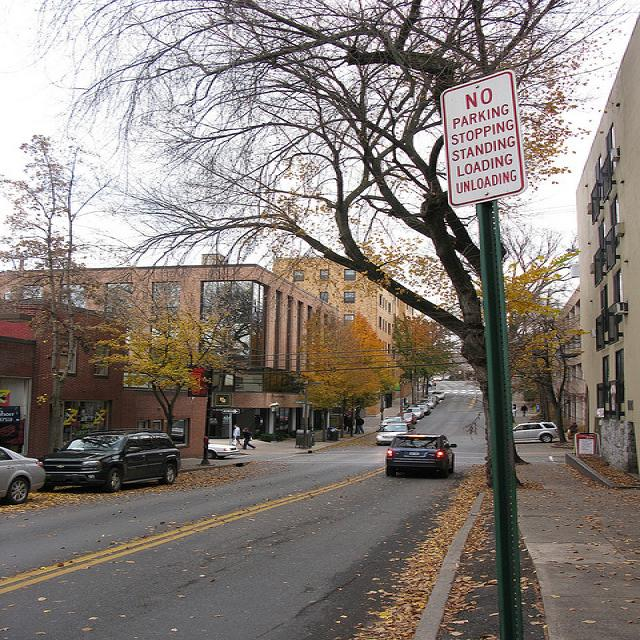Vehicle: (37, 428, 182, 494), (386, 432, 458, 478), (0, 446, 46, 504), (376, 422, 417, 446), (513, 423, 558, 442), (207, 439, 240, 458), (172, 420, 185, 443), (406, 406, 424, 419), (397, 412, 418, 423), (418, 398, 438, 409), (417, 404, 430, 415), (432, 390, 446, 400), (426, 396, 439, 404)
